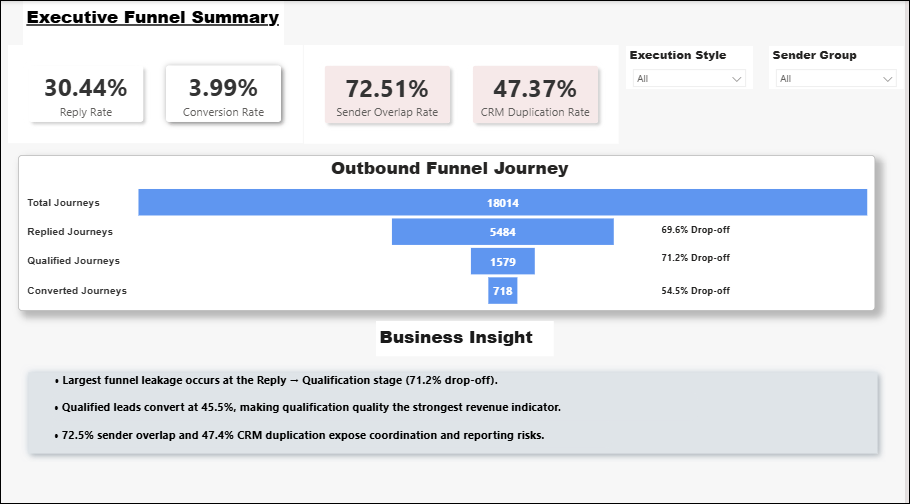

The dashboard page shown, as its layout file describes it:
{"tool":"powerbi","page":{"name":"Page 1","canvas":[1280,720],"ordinal":0},"visuals":[{"type":"cardVisual","fields":{"Data":["outbound_funnel_analysis analytical_master.Sender Overlap Rate","Measuress.CRM Duplication Rate"]},"box":[429.4,62.4,446.5,140.3],"z":0},{"type":"funnel","title":"Outbound Funnel Journey","fields":{"Y":["outbound_funnel_analysis analytical_master.Total Journeys","outbound_funnel_analysis analytical_master.Replied Journeys","outbound_funnel_analysis analytical_master.Qualified Journeys","outbound_funnel_analysis analytical_master.Converted Journeys"]},"box":[24.1,218.3,1214.6,221.1],"z":3000},{"type":"slicer","title":"Sender Group","fields":{"Values":["outbound_funnel_analysis analytical_master.sender_group"]},"box":[1088.7,63.8,191.3,60.9],"z":5000},{"type":"slicer","title":"Execution Style","fields":{"Values":["outbound_funnel_analysis campaign_clean.execution_style"]},"box":[886,63.8,180,60.9],"z":6000},{"type":"textbox","box":[31.2,0,369.9,63.8],"z":7000},{"type":"textbox","box":[931.2,310.4,170.1,49.6],"z":8000},{"type":"textbox","box":[931.2,350.1,154.5,46.8],"z":9000},{"type":"textbox","box":[931.2,396.9,170.1,32.6],"z":10000},{"type":"textbox","box":[531.5,453.5,252.3,49.6],"z":11000},{"type":"shape","box":[26.9,514.5,1227.4,138.9],"z":12000},{"type":"shape","box":[72.6,553.8,915.4,40.9],"z":13000},{"type":"shape","box":[72.6,594.6,794.3,37.8],"z":14000},{"type":"cardVisual","fields":{"Data":["Measuress.Reply Rate","Measuress.Conversion Rate"]},"box":[10.2,62.5,417.9,138.8],"z":15000}]}

Visuals, with their boxes in screenshot pixels (x1, y1, x2, y2), scaled from the page's 1280x720 canvas onto the 910x504 screenshot:
cardVisual - outbound_funnel_analysis analytical_master.Sender Overlap Rate x Measuress.CRM Duplication Rate: 305, 44, 623, 142
"Outbound Funnel Journey" funnel: 17, 153, 881, 308
"Sender Group" slicer: 774, 45, 909, 87
"Execution Style" slicer: 630, 45, 758, 87
textbox: 22, 0, 285, 45
textbox: 662, 217, 783, 252
textbox: 662, 245, 772, 278
textbox: 662, 278, 783, 301
textbox: 378, 317, 557, 352
shape: 19, 360, 892, 457
shape: 52, 388, 702, 416
shape: 52, 416, 616, 443
cardVisual - Measuress.Reply Rate x Measuress.Conversion Rate: 7, 44, 304, 141
